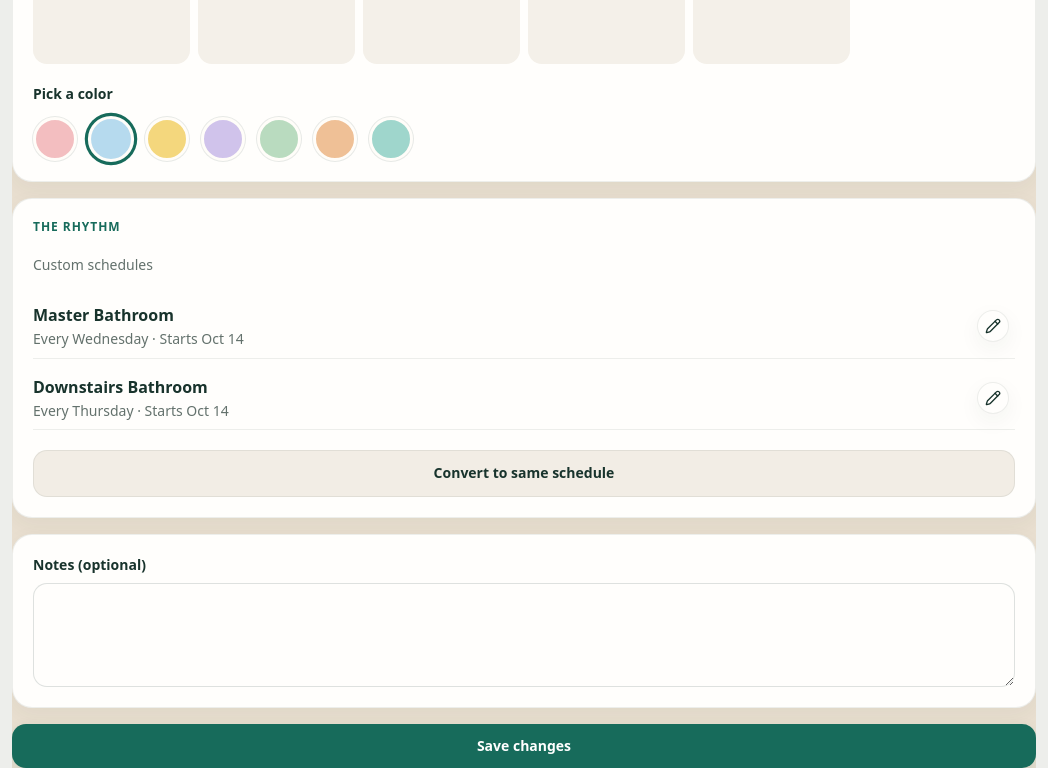
Test: ChoreForm rooms and routine editing › opens differing saved schedules in customized mode and only enters shared conversion locally
(page scrolled)
Expected: the text "Custom schedules" is shown, x1=33 y1=255 x2=153 y2=274
Expected: the text "Every Wednesday · Starts Oct 14" is shown, x1=33 y1=329 x2=244 y2=348
Step 1. Click the button "Convert to same schedule" → (524, 473), box x1=33 y1=450 x2=1015 y2=496
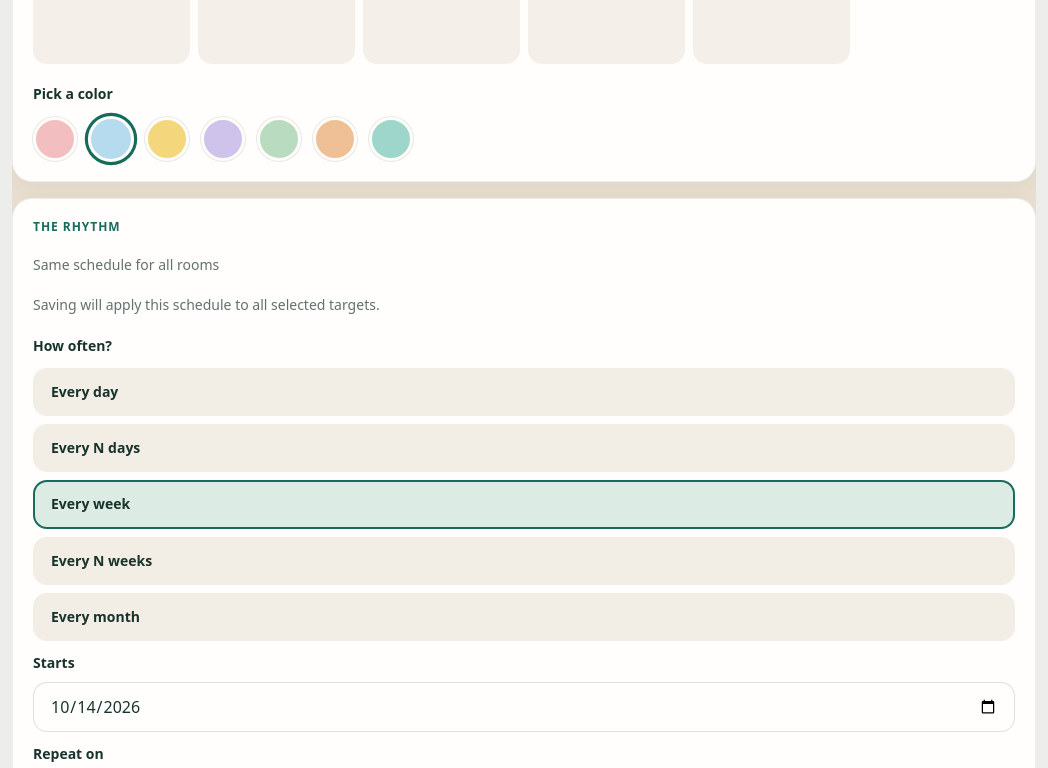
Expected: the text "Saving will apply this schedule to all selected targets." is shown, x1=33 y1=295 x2=380 y2=314
